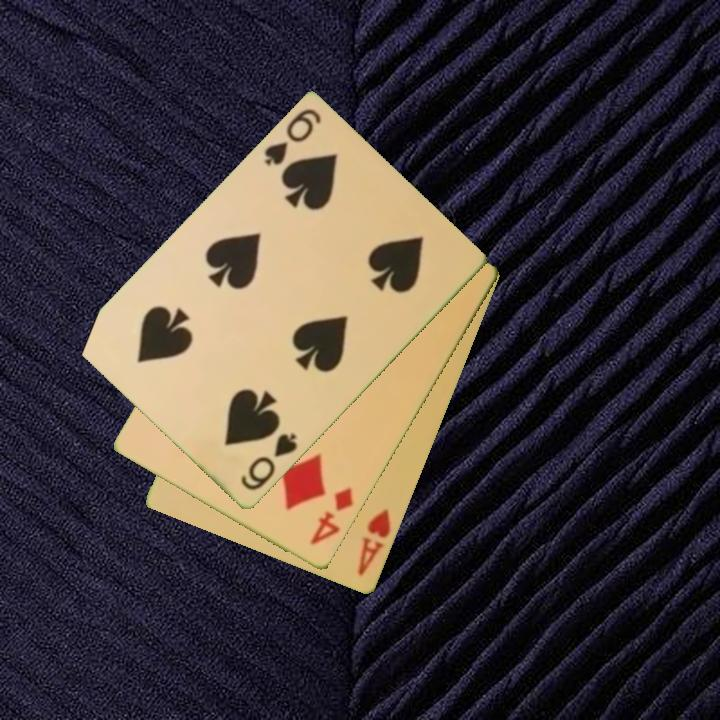4d: (306, 485, 357, 549)
6s: (237, 430, 301, 494), (261, 105, 325, 169)
Ah: (354, 506, 394, 579)
